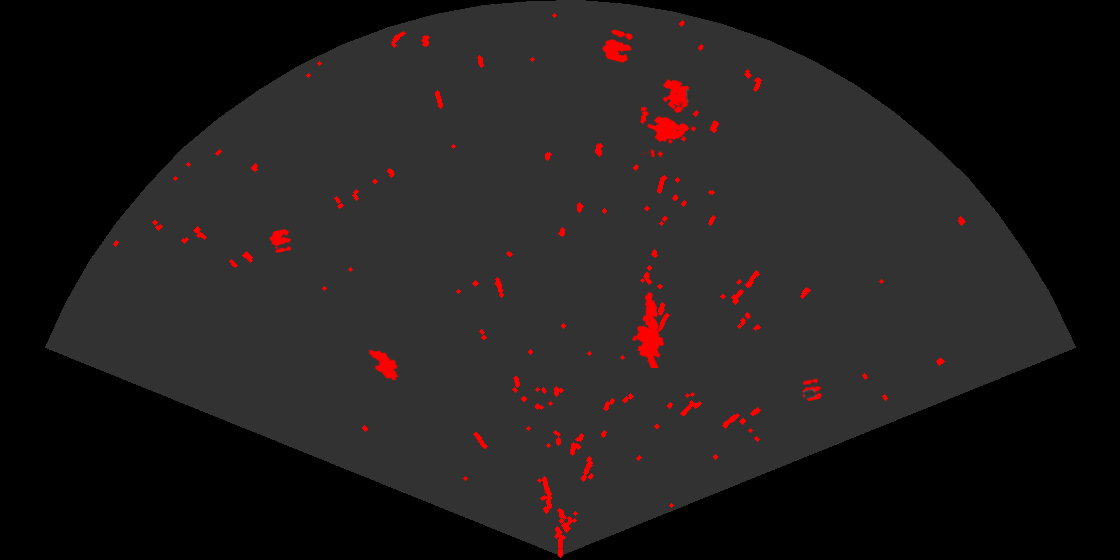AUV: (367, 348, 400, 382)
ball: (601, 28, 635, 64), (268, 228, 293, 254), (800, 377, 824, 403)
cage: (641, 77, 698, 157)
frogman: (630, 291, 666, 368)
